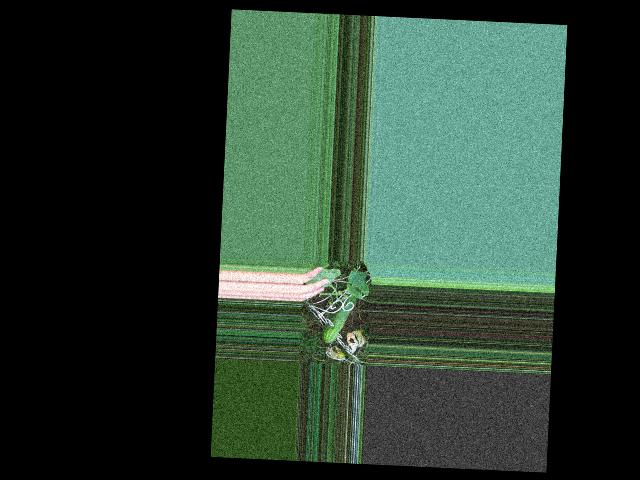cucumber: (321, 294, 356, 344)
